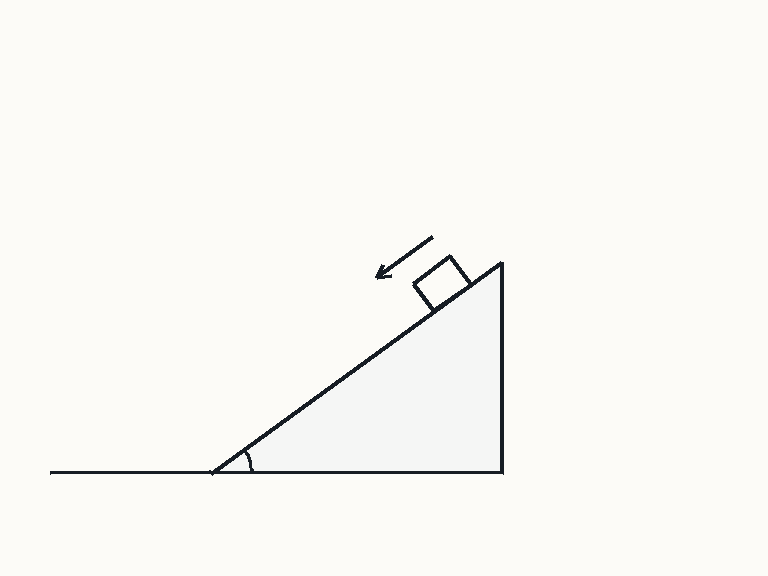block: (411, 254, 472, 313)
ramp: (209, 259, 503, 474)
